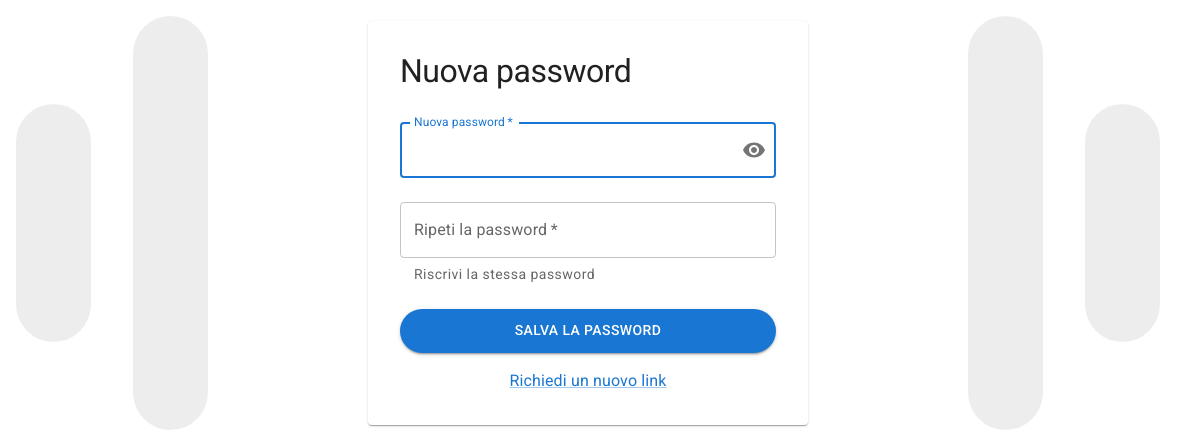
Test: ResetPassword: conferma con riga riservata › l'invio con conferma vuota: errore nella riga come in registrazione, focus sul campo, niente avviso in alto, sparisce al primo tasto
Step 1. Type "Nuova!Pass2026" into the password field labelled "Nuova password *" → (563, 150), box [400,122,726,178]
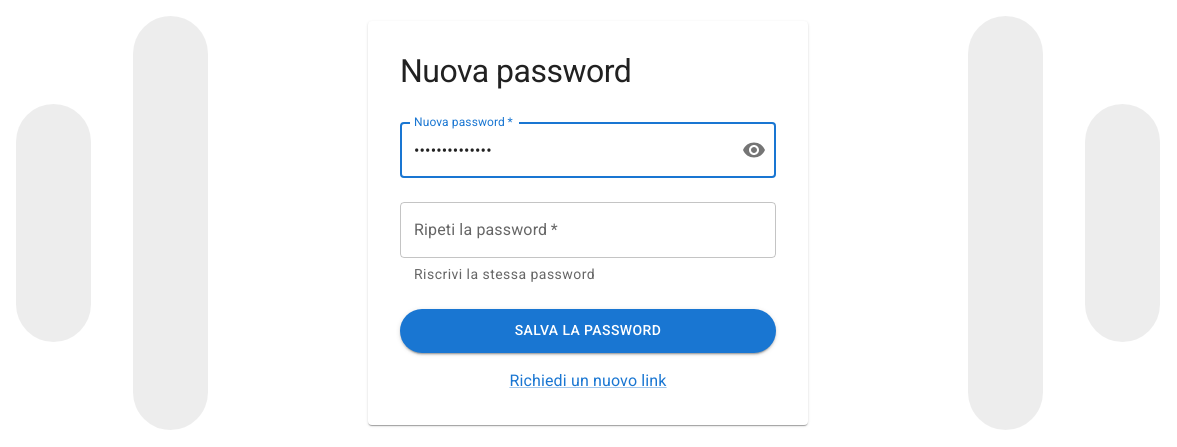
Step 2. Click the button "Salva la password" → (588, 330), box [400,308,776,352]
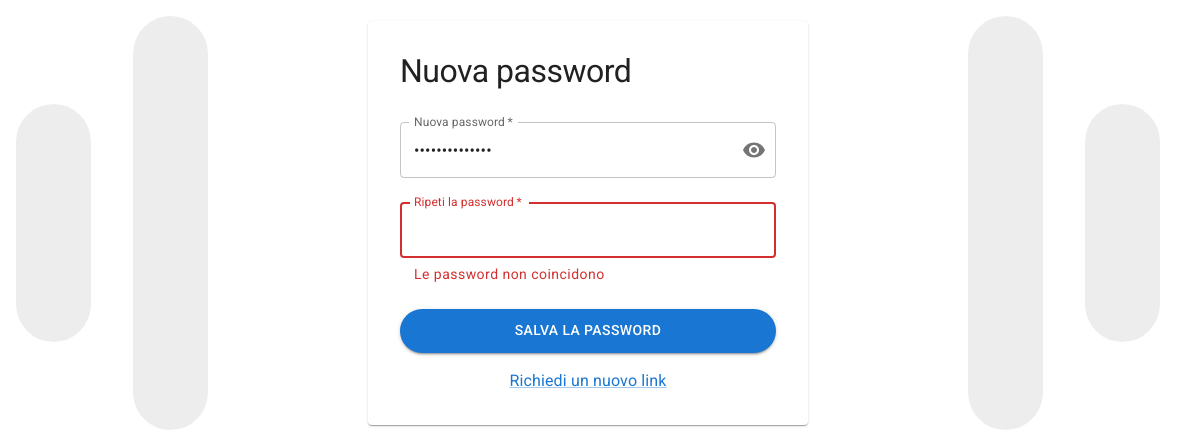
Expected: the text "Le password non coincidono" is shown, [414,266,605,282]
Step 3. Type "N" into the password field labelled "Ripeti la password *" → (588, 230), box [400,202,776,258]
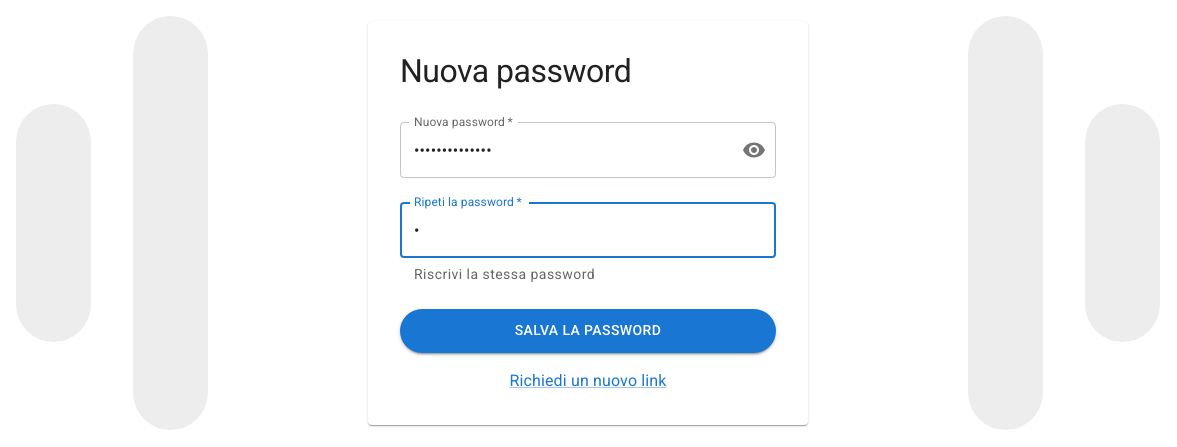
Expected: the text "Riscrivi la stessa password" is shown, [414,266,595,282]
